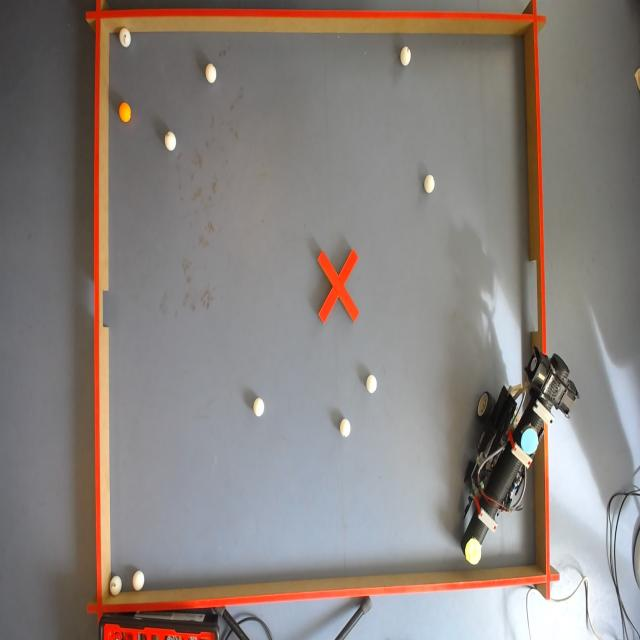orange: (120, 104, 133, 123)
robot: (444, 345, 578, 560)
robot-front: (466, 542, 483, 565)
robot-rear: (518, 412, 542, 467)
white: (131, 570, 145, 594), (204, 62, 218, 85), (339, 416, 353, 436), (254, 397, 266, 420), (400, 45, 413, 66), (119, 28, 132, 48), (164, 131, 176, 152), (366, 374, 378, 394), (423, 176, 436, 194), (110, 578, 124, 594)
